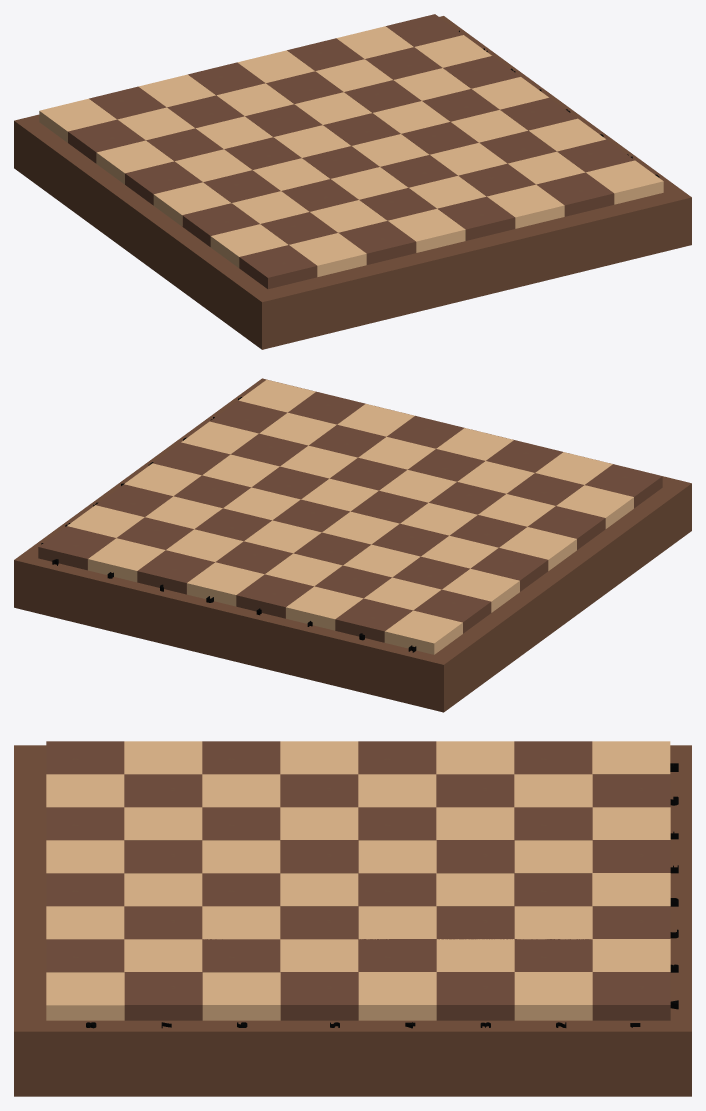
Rendered from board.fbx.
3 renders of one model, top to bottom at view 1: azimuth 30°, elevation 25°; view 2: azimuth 150°, elevation 25°; view 3: azimuth 270°, elevation 25°, orthographic. The views are drawn at different scales.
Visible parts, largest first — view 1: node_id44, node_id58, node_id30, node_id34, node_id78, node_id80, node_id124, node_id110, node_id32, node_id46, node_id56, node_id52 (+53 smaller); view 2: node_id44, node_id54, node_id104, node_id134, node_id128, node_id68, node_id96, node_id66, node_id132, node_id58, node_id46, node_id50 (+53 smaller); view 3: node_id44, node_id116, node_id118, node_id120, node_id122, node_id124, node_id126, node_id128, node_id130, node_id64, node_id96, node_id114 (+54 smaller).
Boxes of the visible parts, x1=… form: node_id44: x1=14, y1=16, x2=691, y2=349; node_id58: x1=239, y1=245, x2=317, y2=289; node_id30: x1=536, y1=172, x2=614, y2=216; node_id34: x1=437, y1=196, x2=515, y2=240; node_id78: x1=338, y1=221, x2=416, y2=264; node_id80: x1=289, y1=233, x2=366, y2=276; node_id124: x1=586, y1=160, x2=663, y2=204; node_id110: x1=388, y1=209, x2=465, y2=252; node_id32: x1=487, y1=184, x2=564, y2=228; node_id46: x1=153, y1=182, x2=231, y2=226; node_id56: x1=210, y1=224, x2=288, y2=267; node_id52: x1=68, y1=119, x2=145, y2=163; node_id44: x1=14, y1=378, x2=691, y2=712; node_id54: x1=384, y1=610, x2=462, y2=654; node_id104: x1=236, y1=574, x2=313, y2=618; node_id134: x1=137, y1=550, x2=214, y2=594; node_id128: x1=38, y1=526, x2=115, y2=570; node_id68: x1=335, y1=598, x2=412, y2=642; node_id96: x1=187, y1=562, x2=264, y2=606; node_id66: x1=286, y1=586, x2=363, y2=630; node_id132: x1=88, y1=538, x2=165, y2=582; node_id58: x1=585, y1=464, x2=662, y2=508; node_id46: x1=499, y1=527, x2=576, y2=570; node_id50: x1=442, y1=568, x2=519, y2=612; node_id44: x1=14, y1=745, x2=691, y2=1096; node_id116: x1=358, y1=972, x2=436, y2=1020; node_id118: x1=280, y1=972, x2=358, y2=1020; node_id120: x1=202, y1=972, x2=280, y2=1020; node_id122: x1=124, y1=972, x2=202, y2=1020; node_id124: x1=46, y1=972, x2=124, y2=1020; node_id126: x1=514, y1=972, x2=592, y2=1020; node_id128: x1=592, y1=972, x2=670, y2=1020; node_id130: x1=436, y1=972, x2=514, y2=1020; node_id64: x1=514, y1=774, x2=592, y2=807; node_id96: x1=592, y1=873, x2=670, y2=906; node_id114: x1=280, y1=840, x2=358, y2=873.
Bounding box in the file's own units: 0.512 × 0.0672 × 0.512.
74 materials, 32 textured.
